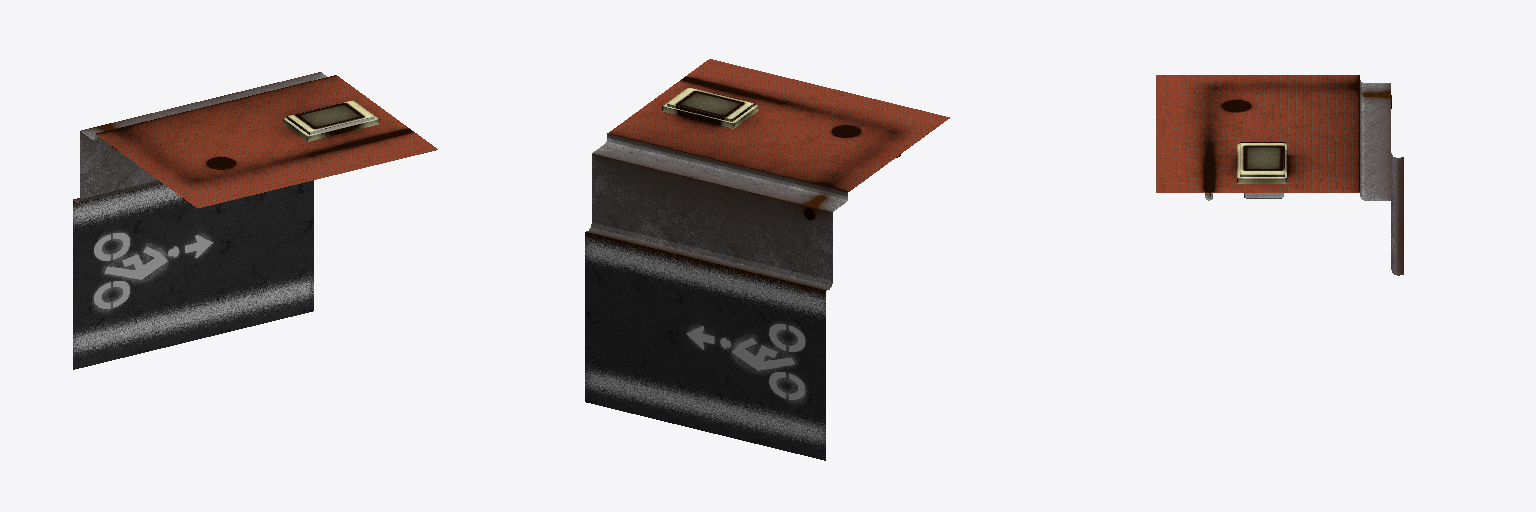
3 views of the same model, side by side, from view 1: azimuth 30°, elevation 25°; view 2: azimuth 150°, elevation 25°; view 3: azimuth 270°, elevation 25° (orthographic).
Visible parts, largest first — view 1: Alley_Street, Alley_Wall; view 2: Alley_Street, Alley_Wall; view 3: Alley_Wall, Alley_Street.
Part boxes in pixels (bbox=[...]): Alley_Street: bbox=[73, 131, 313, 369]; Alley_Wall: bbox=[81, 72, 437, 208]; Alley_Street: bbox=[585, 154, 832, 460]; Alley_Wall: bbox=[592, 59, 949, 211]; Alley_Wall: bbox=[1156, 75, 1390, 200]; Alley_Street: bbox=[1391, 153, 1403, 275].
Bounding box in the file's own units: 39.37 × 40.59 × 35.16.
Materials: 5 (5 with a texture image).